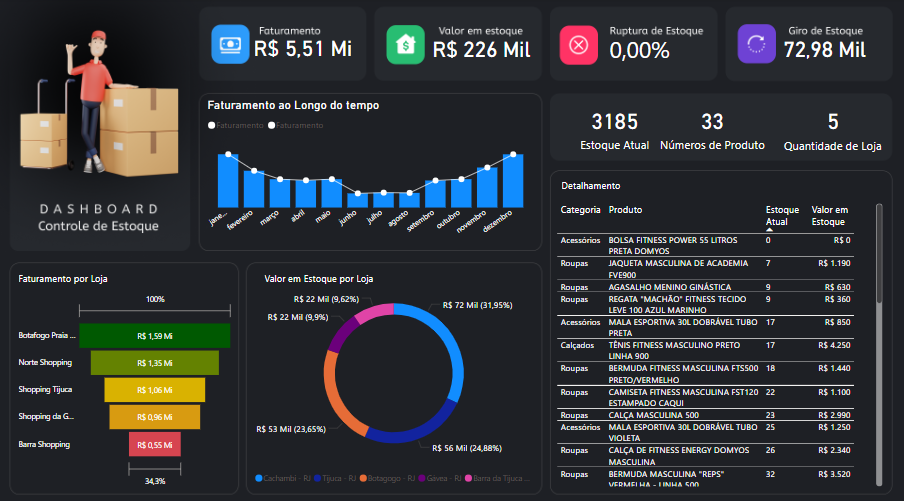

Layout of this report page (visuals, bound fields, positions):
{"tool":"powerbi","page":{"name":"Página 1","canvas":[1280,720],"ordinal":0},"visuals":[{"type":"tableEx","fields":{"Values":["Produto.Categoria","Produto.Produto","BaseEstoque.Estoque Atual","BaseEstoque.Valor em Estoque"]},"box":[784,286.9,471.7,411.4],"z":0},{"type":"card","fields":{"Values":["BaseEstoque.Valor em Estoque"]},"box":[602.5,35,159.9,71.9],"z":1000},{"type":"card","fields":{"Values":["BaseEstoque.Faturamento"]},"box":[348.7,39,160.9,63],"z":2000},{"type":"card","fields":{"Values":["BaseEstoque.Giro Estque"]},"box":[1094.2,28.2,148.8,84.6],"z":2001},{"type":"textbox","box":[858.8,45.7,120.6,56.4],"z":2002},{"type":"donutChart","fields":{"Y":["BaseEstoque.Valor em Estoque"],"Category":["Loja.Bairro"]},"box":[354,392.9,407.5,305.4],"z":2003},{"type":"textbox","box":[369.6,384.2,175.1,29.2],"z":2004},{"type":"lineStackedColumnComboChart","title":"Faturamento ao Longo do tempo","fields":{"Y":["BaseEstoque.Faturamento"],"Category":["BaseEstoque.Data.Variation.Hierarquia de datas.Mês"]},"box":[288.9,142,472.7,204.3],"z":2005},{"type":"card","fields":{"Values":["BaseEstoque.Estoque Atual"]},"box":[784,142,175.1,83.6],"z":2006},{"type":"card","fields":{"Values":["Count(Produto.Produto)"]},"box":[926,138.1,168.3,91.4],"z":2007},{"type":"card","fields":{"Values":["Count(Loja.Loja)"]},"box":[1105.9,140.1,149.8,87.5],"z":2008},{"type":"funnel","fields":{"Y":["BaseEstoque.Faturamento"],"Category":["Loja.Loja"]},"box":[21.4,412.4,315.1,286],"z":2009},{"type":"textbox","box":[21.4,384.2,175.1,29.2],"z":2010},{"type":"textbox","box":[790.8,252.9,175.1,34],"z":2011}]}

Visuals, with their boxes in screenshot pixels (x1, y1, x2, y2), scaled from the page's 1280x720 canvas onto the 904x501 screenshot:
tableEx - Produto.Categoria x Produto.Produto: [left=554, top=200, right=887, bottom=486]
card - BaseEstoque.Valor em Estoque: [left=426, top=24, right=538, bottom=74]
card - BaseEstoque.Faturamento: [left=246, top=27, right=360, bottom=71]
card - BaseEstoque.Giro Estque: [left=773, top=20, right=878, bottom=78]
textbox: [left=607, top=32, right=692, bottom=71]
donutChart - BaseEstoque.Valor em Estoque x Loja.Bairro: [left=250, top=273, right=538, bottom=486]
textbox: [left=261, top=267, right=385, bottom=288]
"Faturamento ao Longo do tempo" lineStackedColumnComboChart: [left=204, top=99, right=538, bottom=241]
card - BaseEstoque.Estoque Atual: [left=554, top=99, right=677, bottom=157]
card - Count(Produto.Produto): [left=654, top=96, right=773, bottom=160]
card - Count(Loja.Loja): [left=781, top=97, right=887, bottom=158]
funnel - BaseEstoque.Faturamento x Loja.Loja: [left=15, top=287, right=238, bottom=486]
textbox: [left=15, top=267, right=139, bottom=288]
textbox: [left=559, top=176, right=682, bottom=200]
